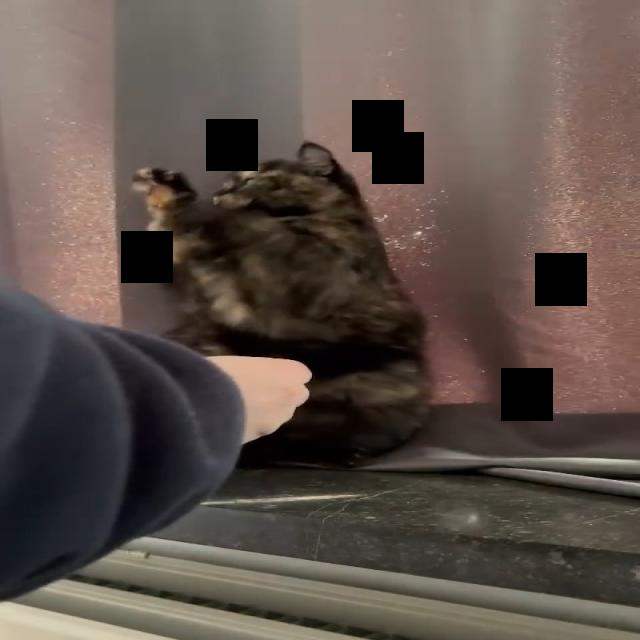authorized: (130, 140, 433, 469)
